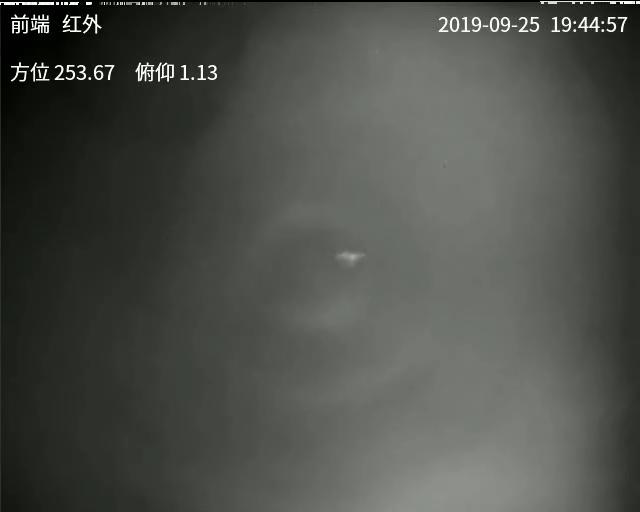uav: (326, 245, 370, 268)
